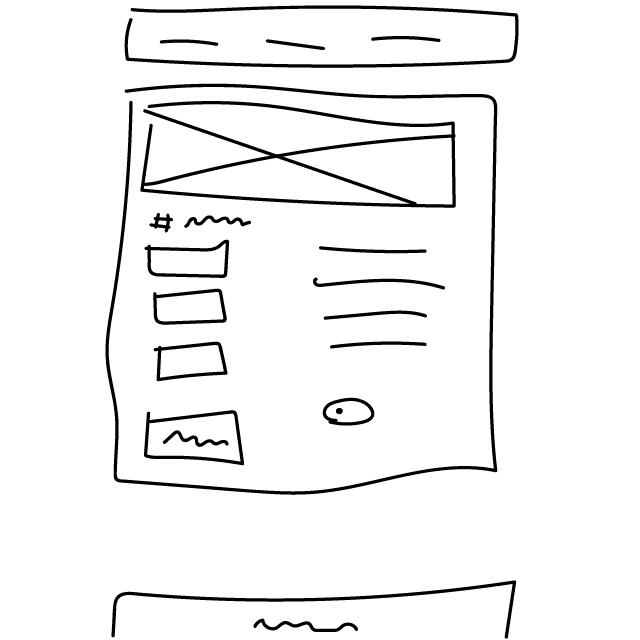button: (140, 406, 252, 470)
checkbox: (322, 397, 379, 431)
container: (102, 83, 508, 505)
footer: (106, 575, 528, 640)
frame: (140, 101, 466, 215)
heading: (148, 211, 255, 237)
input: (144, 238, 238, 280), (151, 285, 236, 330), (151, 342, 236, 383)
nav: (119, 5, 525, 70)
text: (306, 237, 457, 359)
